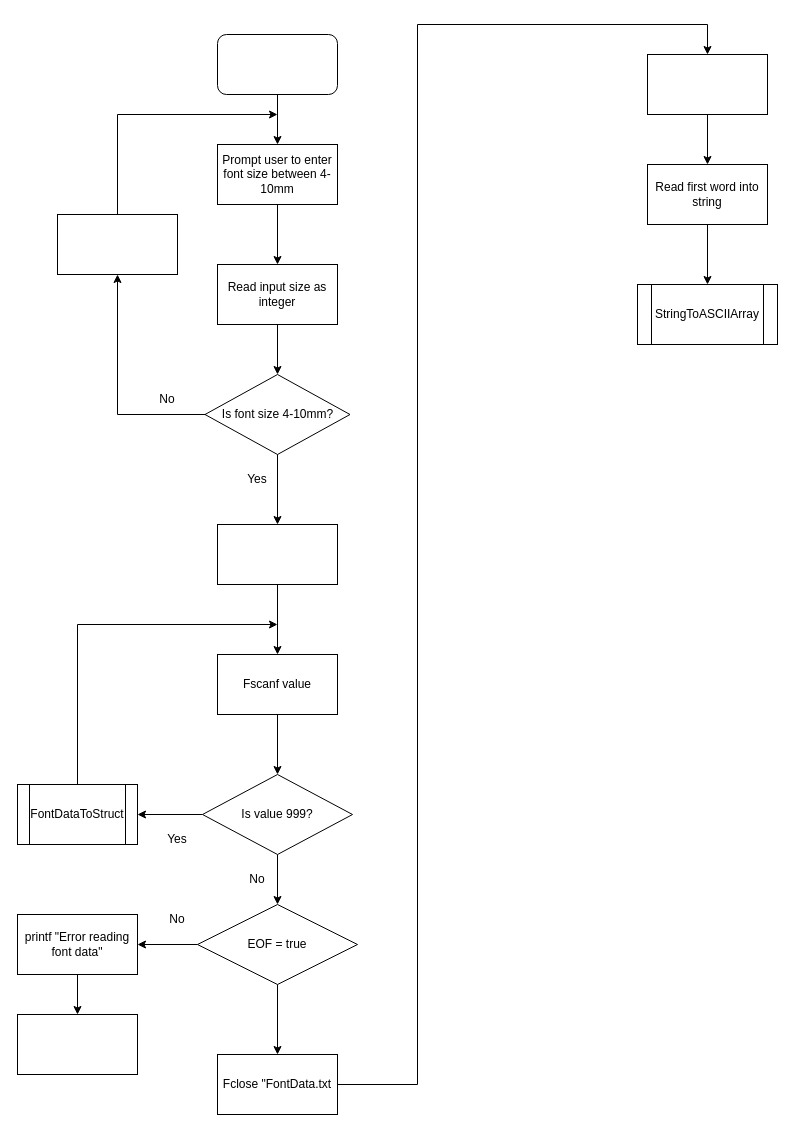
This 795x1132 diagram has some shape labels left out. Each missing label, with the centre of its shape:
Fopen "FontData.txt": (x=277, y=554)
Fopen "InputText.txt": (x=707, y=84)
printf "font size outside range": (x=117, y=244)
Return -1: (x=77, y=1044)
Start: (x=277, y=64)
